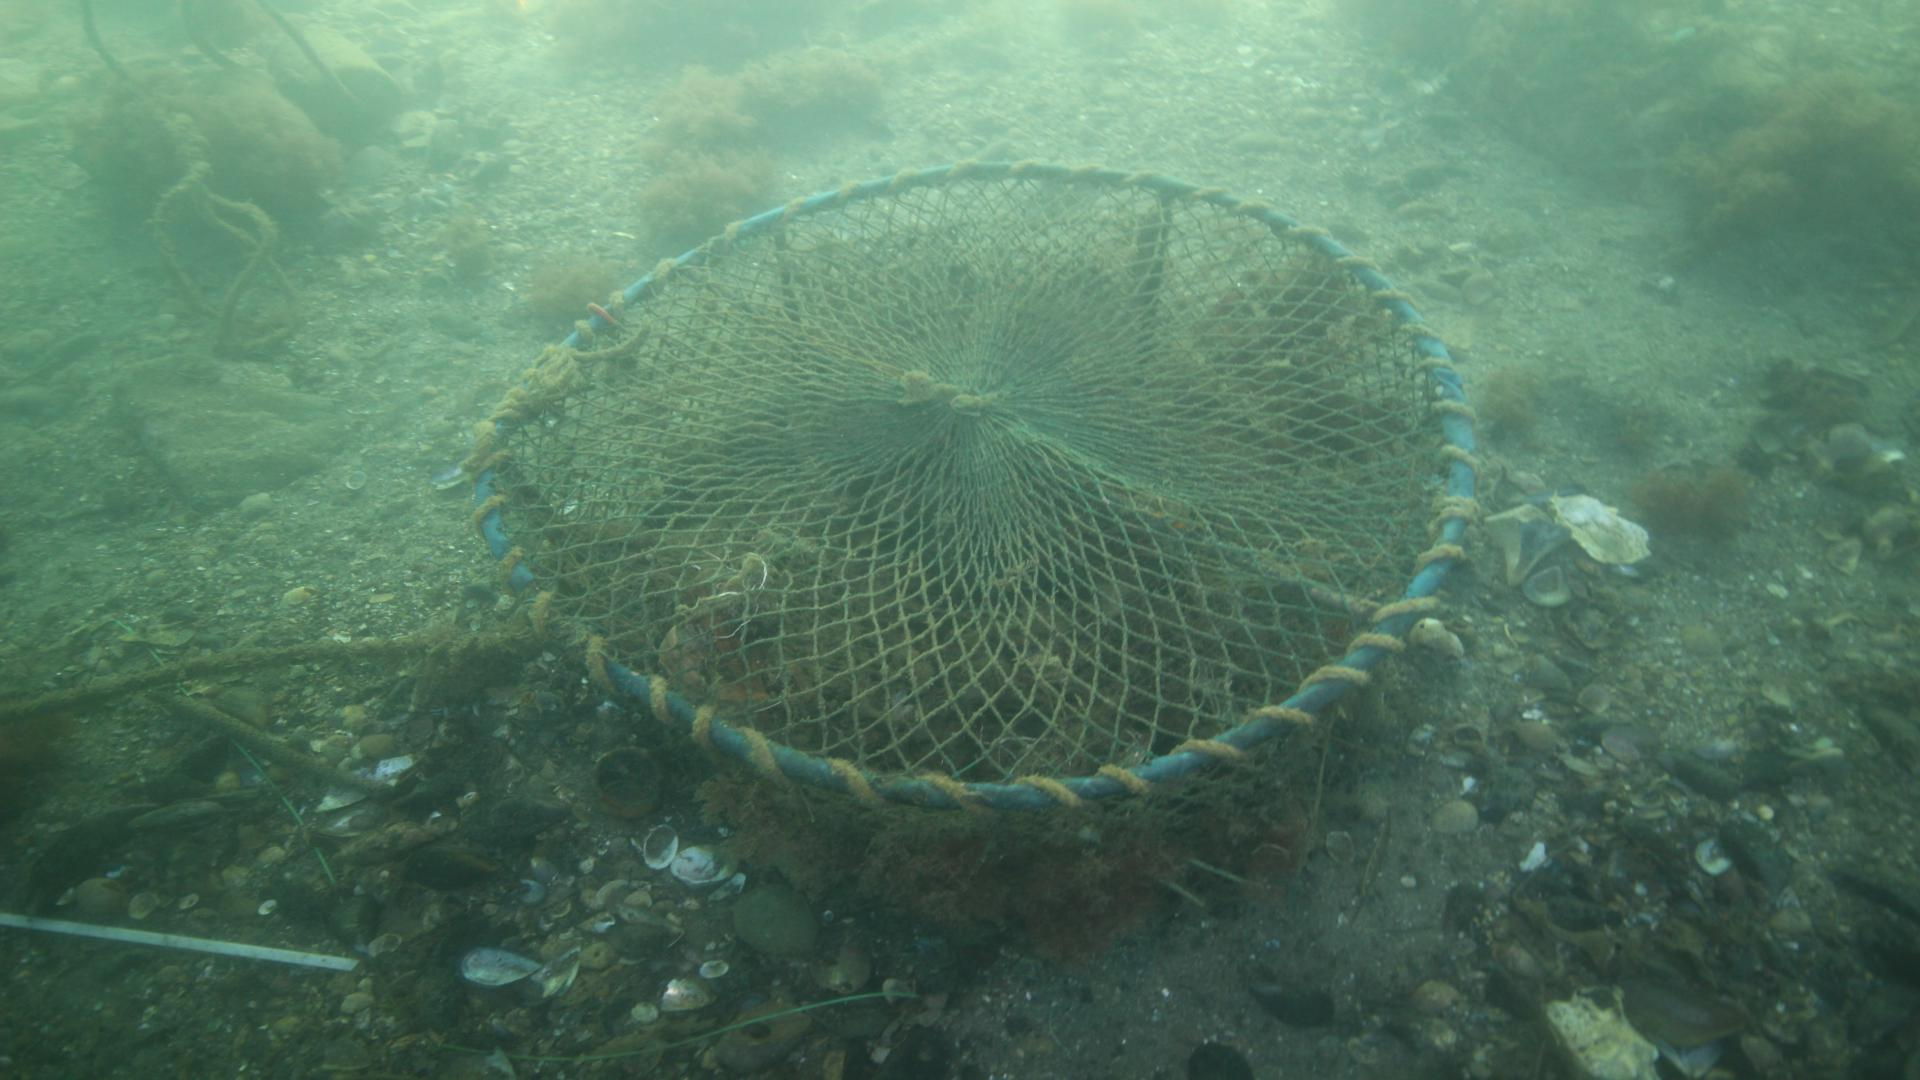circular fish trap: (465, 156, 1481, 922)
